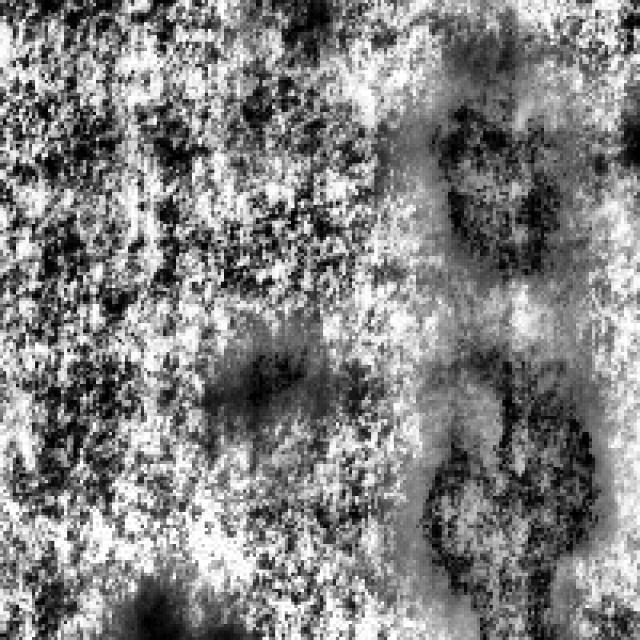Scratches: (410, 336, 604, 637), (416, 42, 570, 284), (224, 330, 310, 412)
